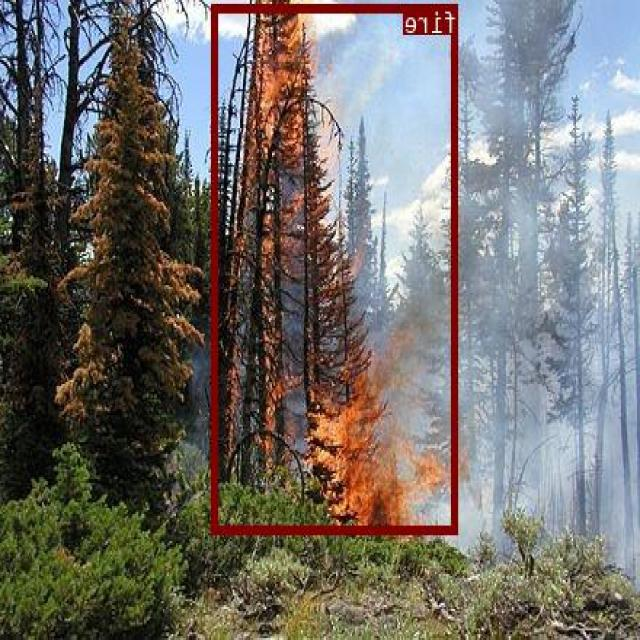fire: (213, 2, 460, 532)
